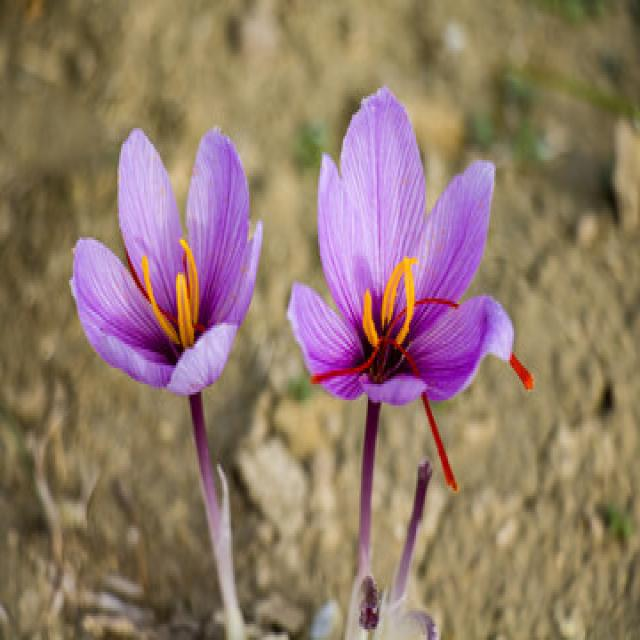saffron open: (289, 88, 514, 596), (71, 129, 262, 639)
